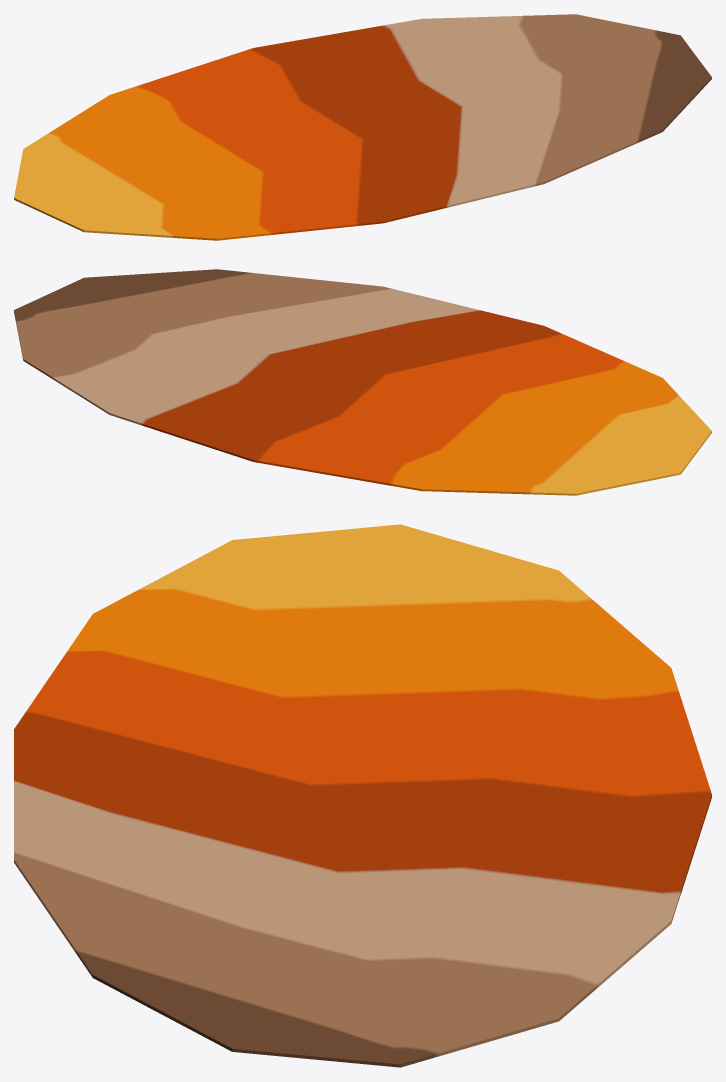
The model's file is Carpet.fbx.
3 views of the same model, one above another, from view 1: azimuth 30°, elevation 25°; view 2: azimuth 150°, elevation 25°; view 3: azimuth 270°, elevation 25° (orthographic). The views are drawn at different scales.
Visible parts, largest first — view 1: Carpet; view 2: Carpet; view 3: Carpet.
Boxes of the visible parts, x1=… form: Carpet: x1=14, y1=14, x2=711, y2=240; Carpet: x1=14, y1=269, x2=711, y2=495; Carpet: x1=14, y1=524, x2=711, y2=1067.
Bounding box in the file's own units: 3.61 × 0.01 × 1.97.
Materials: 1 (1 with a texture image).
